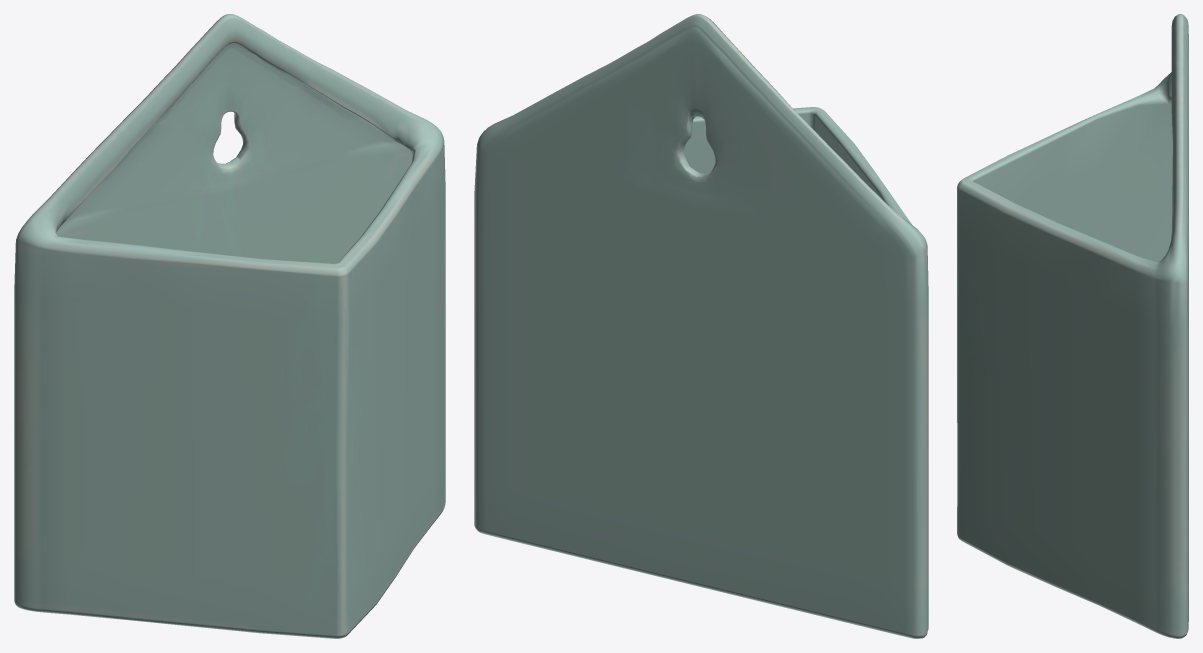
The model's file is planter_B075HWDSFH.glb.
3 renders of one model, left to right at view 1: azimuth 30°, elevation 25°; view 2: azimuth 150°, elevation 25°; view 3: azimuth 270°, elevation 25°, orthographic. The views are drawn at different scales.
Parts seen in each view (by area): view 1: RootNode; view 2: RootNode; view 3: RootNode.
Boxes of the visible parts, x1,y1,x2,y2 form: RootNode: (14,14,445,638); RootNode: (474,14,928,638); RootNode: (957,14,1188,638).
Size of the model in its own units: 0.1636 by 0.1975 by 0.0792.
1 material, 1 textured.
